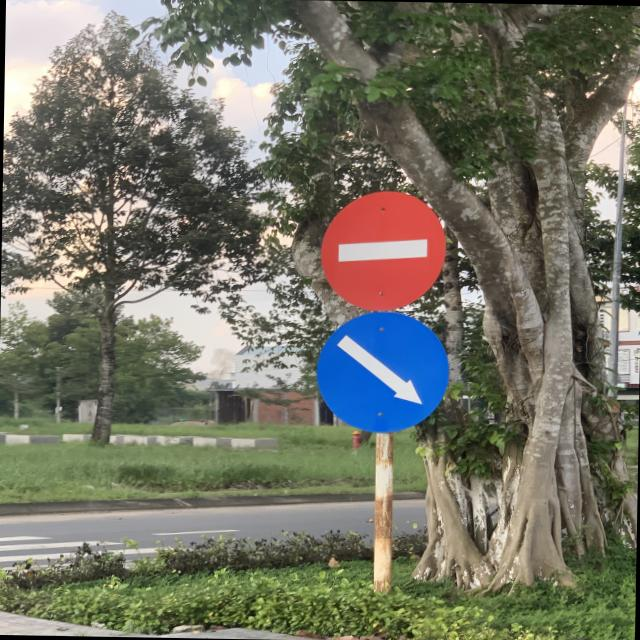Cam_Di_Nguoc_Chieu: (320, 190, 448, 312)
Chi_Huong_Di_Phai: (313, 311, 450, 434)
